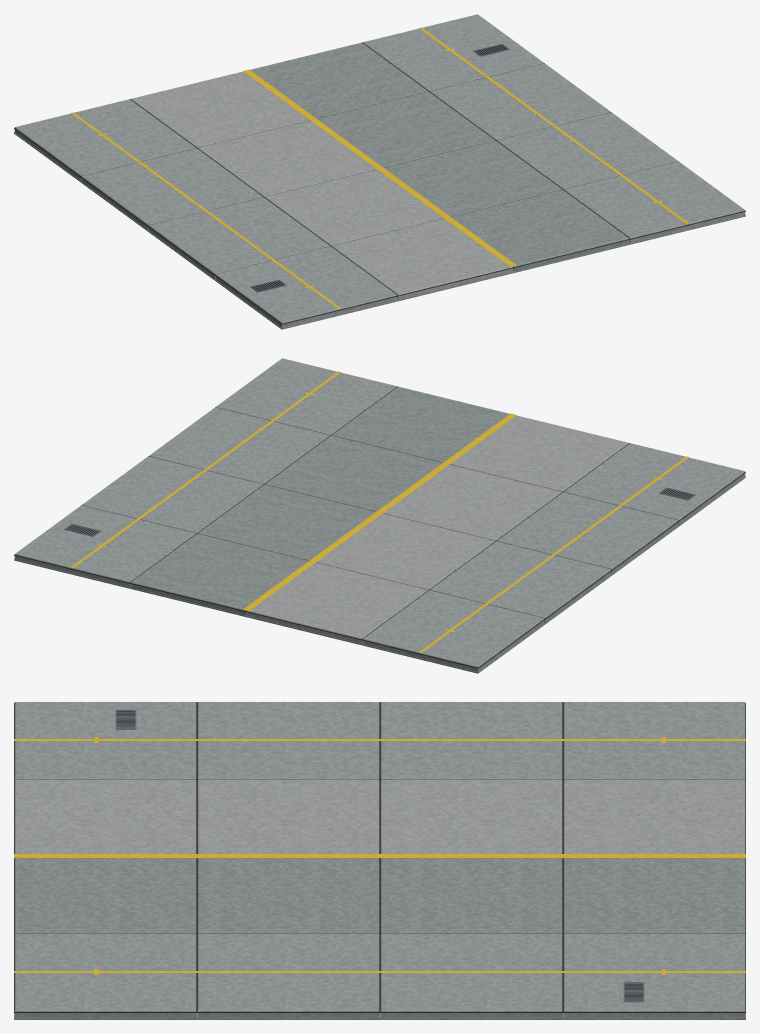
The picture shows the model from 3 angles, top to bottom: view 1: azimuth 30°, elevation 25°; view 2: azimuth 150°, elevation 25°; view 3: azimuth 270°, elevation 25°; orthographic projection. The views are drawn at different scales.
Visible parts, largest first — view 1: VIS_Concrete_Slabs_Concrete_A, VIS_Concrete_Slabs_Concrete_B, VIS_Concrete_Slabs_Concrete_C, VIS_Joint_Sealants_JointSeal, VIS_Taxiway_Edge_YellowPaint, VIS_Taxiway_Centerline_YellowPaint, VIS_Expansion_Joint_Base_Concrete_C, VIS_Joint_Grid_Back_JointSeal; view 2: VIS_Concrete_Slabs_Concrete_A, VIS_Concrete_Slabs_Concrete_B, VIS_Concrete_Slabs_Concrete_C, VIS_Joint_Sealants_JointSeal, VIS_Taxiway_Edge_YellowPaint, VIS_Taxiway_Centerline_YellowPaint, VIS_Expansion_Joint_Base_Concrete_C, VIS_Joint_Grid_Back_JointSeal; view 3: VIS_Concrete_Slabs_Concrete_A, VIS_Concrete_Slabs_Concrete_C, VIS_Concrete_Slabs_Concrete_B, VIS_Taxiway_Centerline_YellowPaint, VIS_Joint_Sealants_JointSeal, VIS_Taxiway_Edge_YellowPaint, VIS_Expansion_Joint_Base_Concrete_C, VIS_Joint_Grid_Back_JointSeal, VIS_Grate_Bars_Steel.
Boxes of the visible parts, x1,y1,x2,y2 form: VIS_Concrete_Slabs_Concrete_A: (14, 14, 745, 328); VIS_Concrete_Slabs_Concrete_B: (131, 71, 513, 299); VIS_Concrete_Slabs_Concrete_C: (250, 42, 629, 271); VIS_Joint_Sealants_JointSeal: (81, 42, 678, 295); VIS_Taxiway_Edge_YellowPaint: (71, 27, 688, 308); VIS_Taxiway_Centerline_YellowPaint: (243, 69, 516, 266); VIS_Expansion_Joint_Base_Concrete_C: (14, 132, 745, 329); VIS_Joint_Grid_Back_JointSeal: (14, 128, 745, 324); VIS_Concrete_Slabs_Concrete_A: (14, 358, 745, 672); VIS_Concrete_Slabs_Concrete_B: (246, 415, 628, 643); VIS_Concrete_Slabs_Concrete_C: (130, 386, 509, 615); VIS_Joint_Sealants_JointSeal: (81, 386, 678, 639); VIS_Taxiway_Edge_YellowPaint: (71, 371, 688, 652); VIS_Taxiway_Centerline_YellowPaint: (243, 413, 516, 610); VIS_Expansion_Joint_Base_Concrete_C: (14, 476, 745, 673); VIS_Joint_Grid_Back_JointSeal: (14, 472, 745, 668); VIS_Concrete_Slabs_Concrete_A: (14, 702, 745, 1017); VIS_Concrete_Slabs_Concrete_C: (14, 858, 745, 933); VIS_Concrete_Slabs_Concrete_B: (14, 779, 745, 853); VIS_Taxiway_Centerline_YellowPaint: (14, 854, 745, 858); VIS_Joint_Sealants_JointSeal: (14, 702, 745, 1011); VIS_Taxiway_Edge_YellowPaint: (14, 739, 745, 972); VIS_Expansion_Joint_Base_Concrete_C: (14, 1013, 745, 1019); VIS_Joint_Grid_Back_JointSeal: (14, 703, 745, 1012); VIS_Grate_Bars_Steel: (116, 710, 643, 1000).
Size of the model in its own units: 16 by 0.2395 by 16.
Materials: 7 (7 with a texture image).
